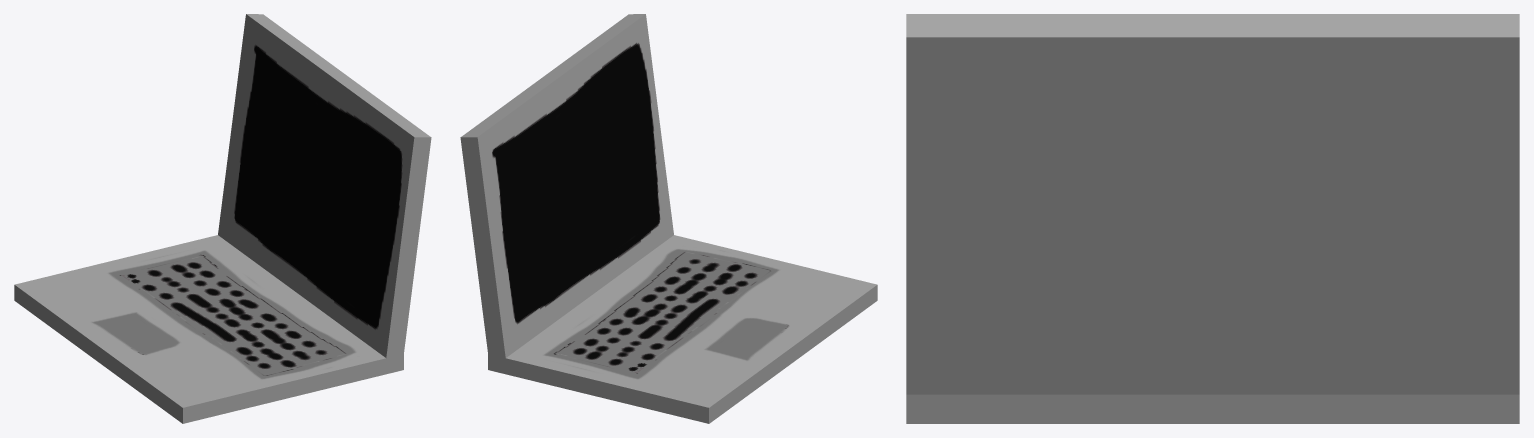
File: Laptop.gltf
The picture shows the model from 3 angles, left to right: view 1: azimuth 30°, elevation 25°; view 2: azimuth 150°, elevation 25°; view 3: azimuth 270°, elevation 25°; orthographic projection. The views are drawn at different scales.
Parts seen in each view (by area): view 1: Cube; view 2: Cube; view 3: Cube.
Part boxes in pixels (<box>): Cube: <box>14,14,431,423</box>; Cube: <box>460,14,877,423</box>; Cube: <box>906,14,1519,423</box>.
Size of the model in its own units: 0.6463 by 0.5717 by 0.7579.
1 material, 1 textured.
